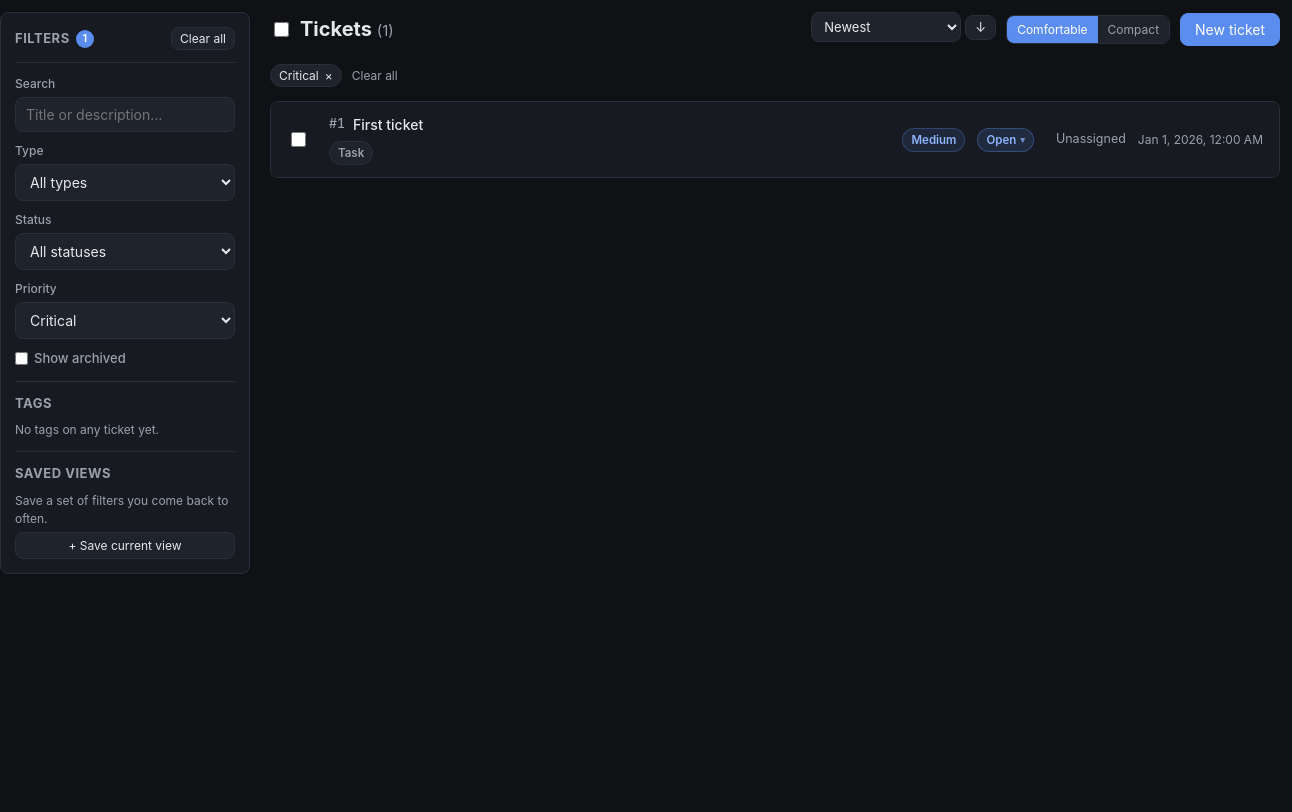
Test: TicketList saved views › saves the current query under a name
Expected: the text "First ticket" is shown, [353,116,423,133]
Click the button "+ Save current view".
click(125, 545)  # box [15,532,235,558]
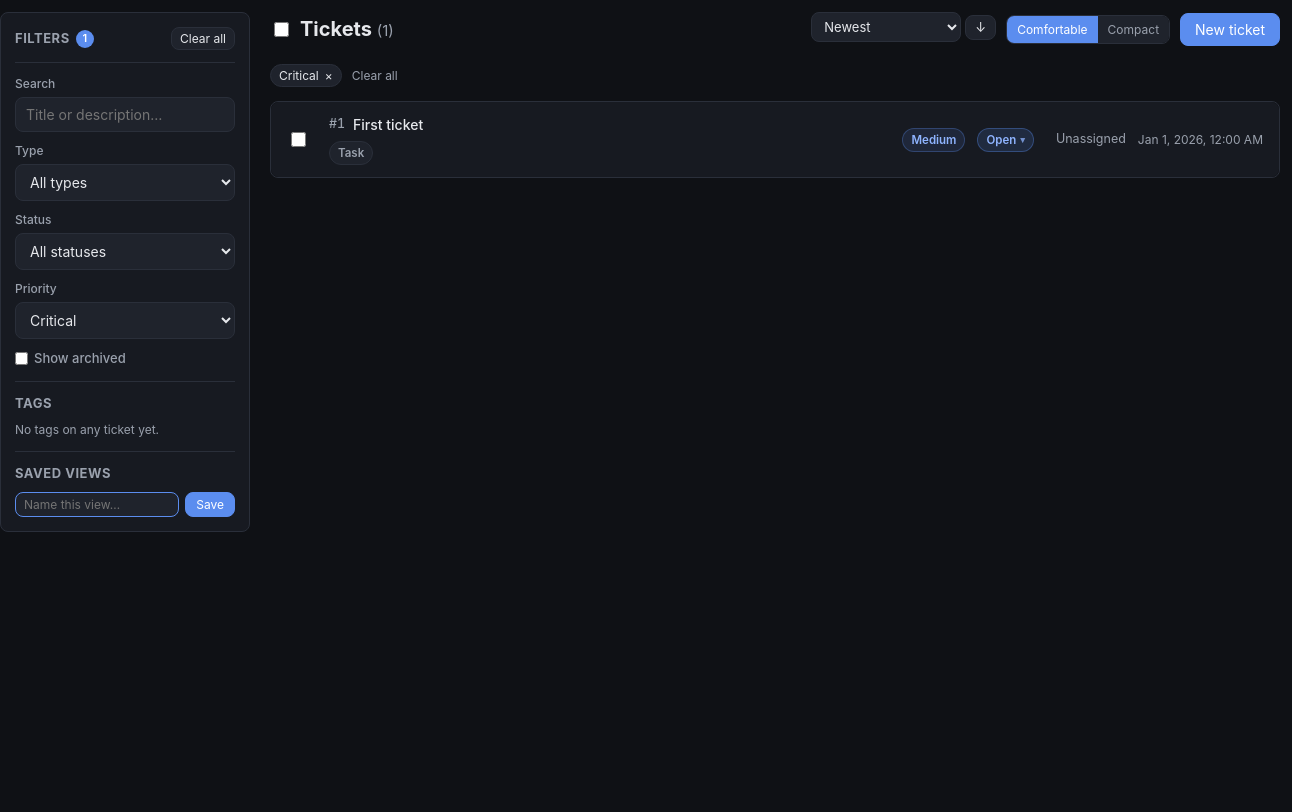
Type "Urgent" into the field named "Name for this view".
click(97, 504); type("Urgent")  # box [15,492,179,516]
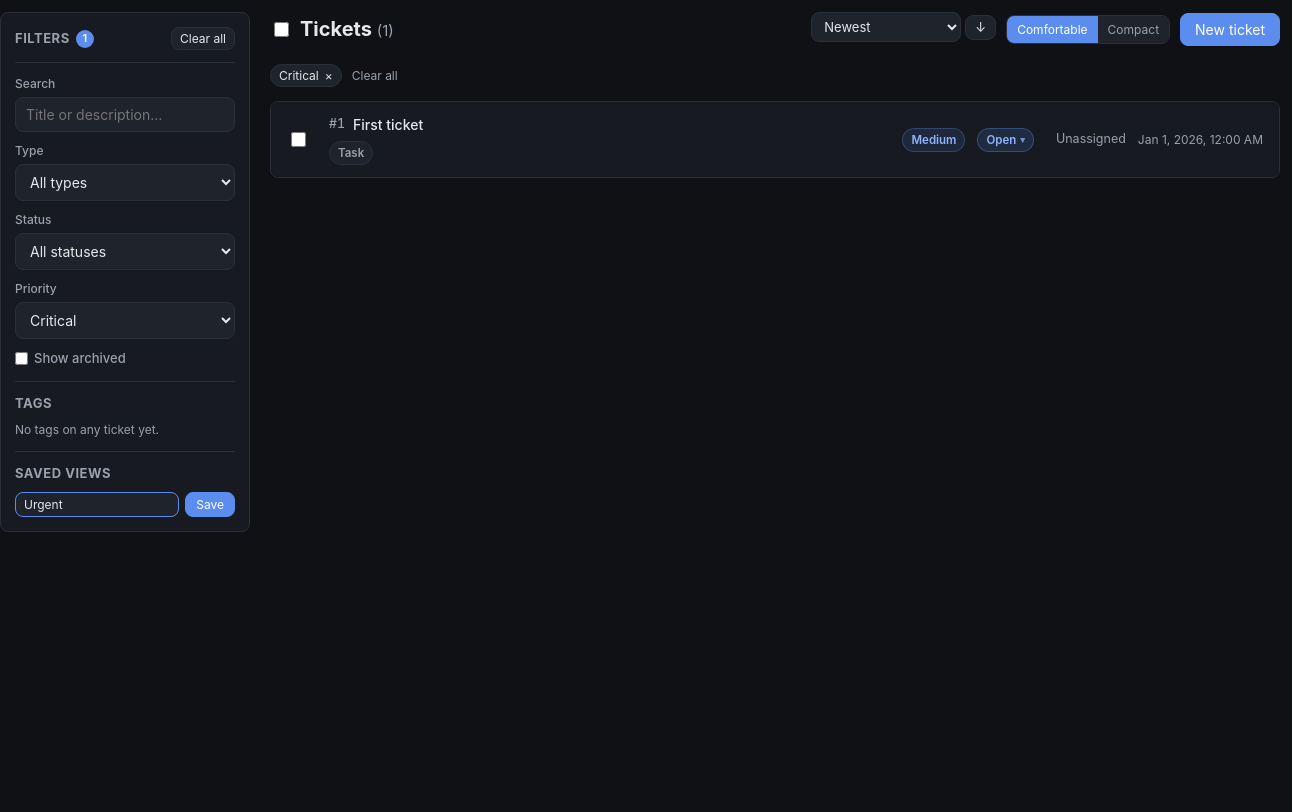
Click the button "Save".
click(210, 504)  # box [185,492,235,516]
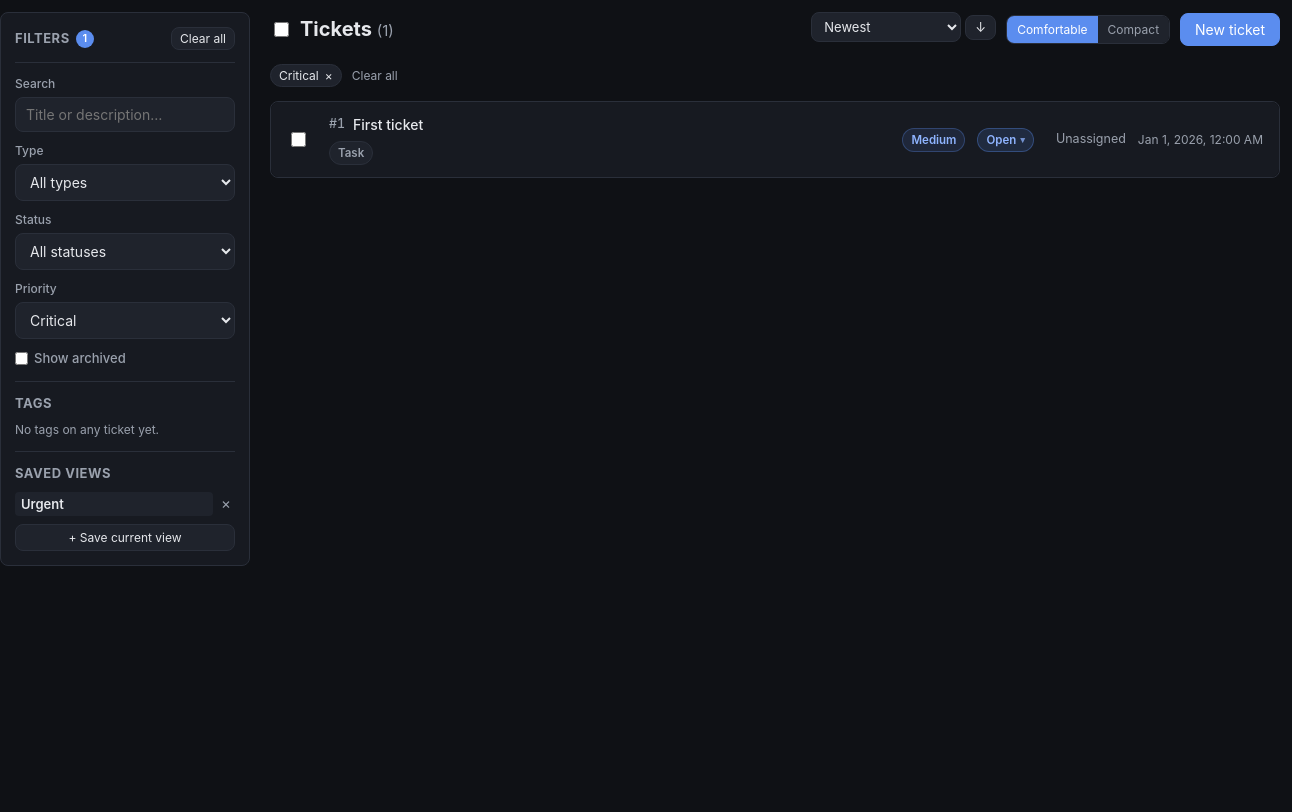
Now the button "Urgent" is shown, box [15,492,213,516]
